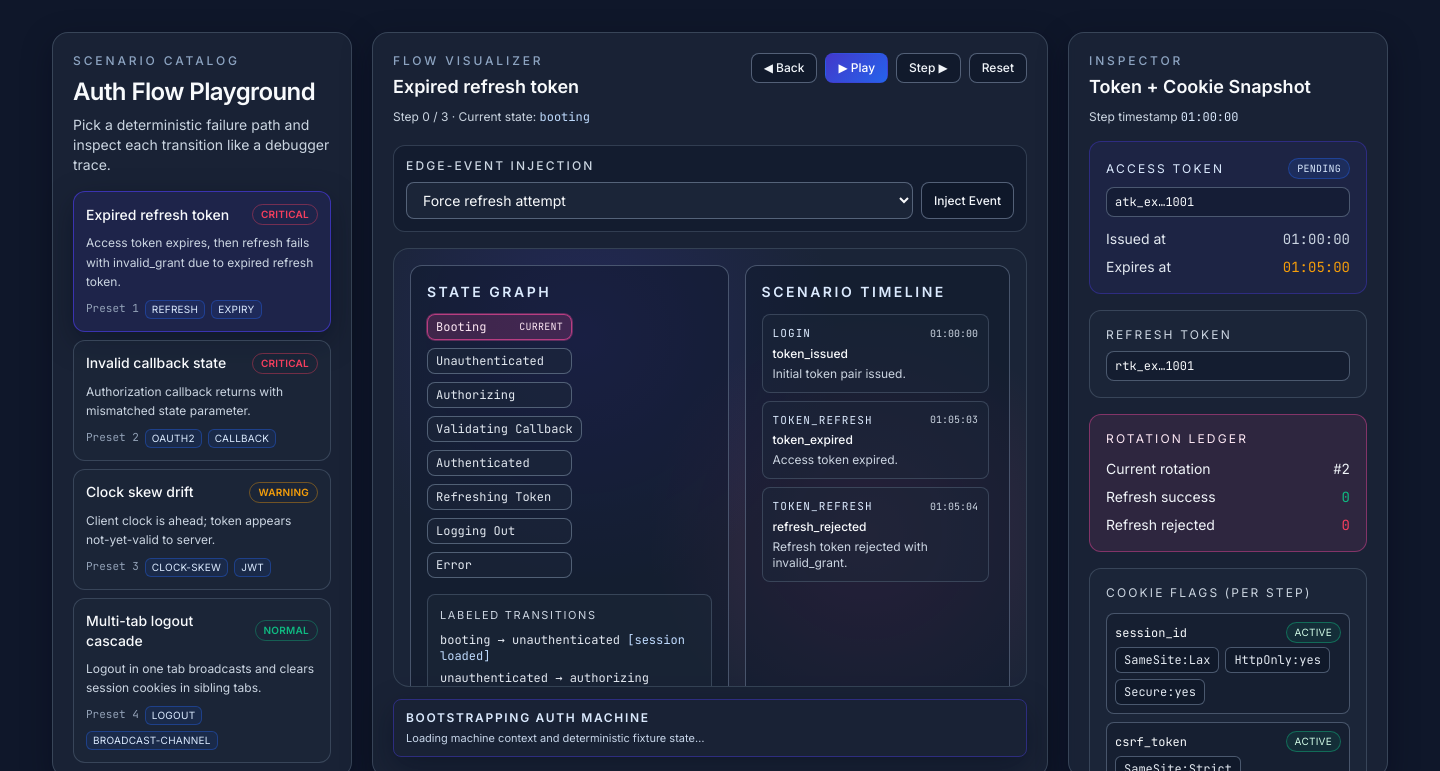
Scenario: flow visualizer controls › injects edge event from dropdown and reflects latest injected event
Select "Inject server revoke" in the dropdown labelled "Edge-event injection": (660, 200) [406,182,913,219]
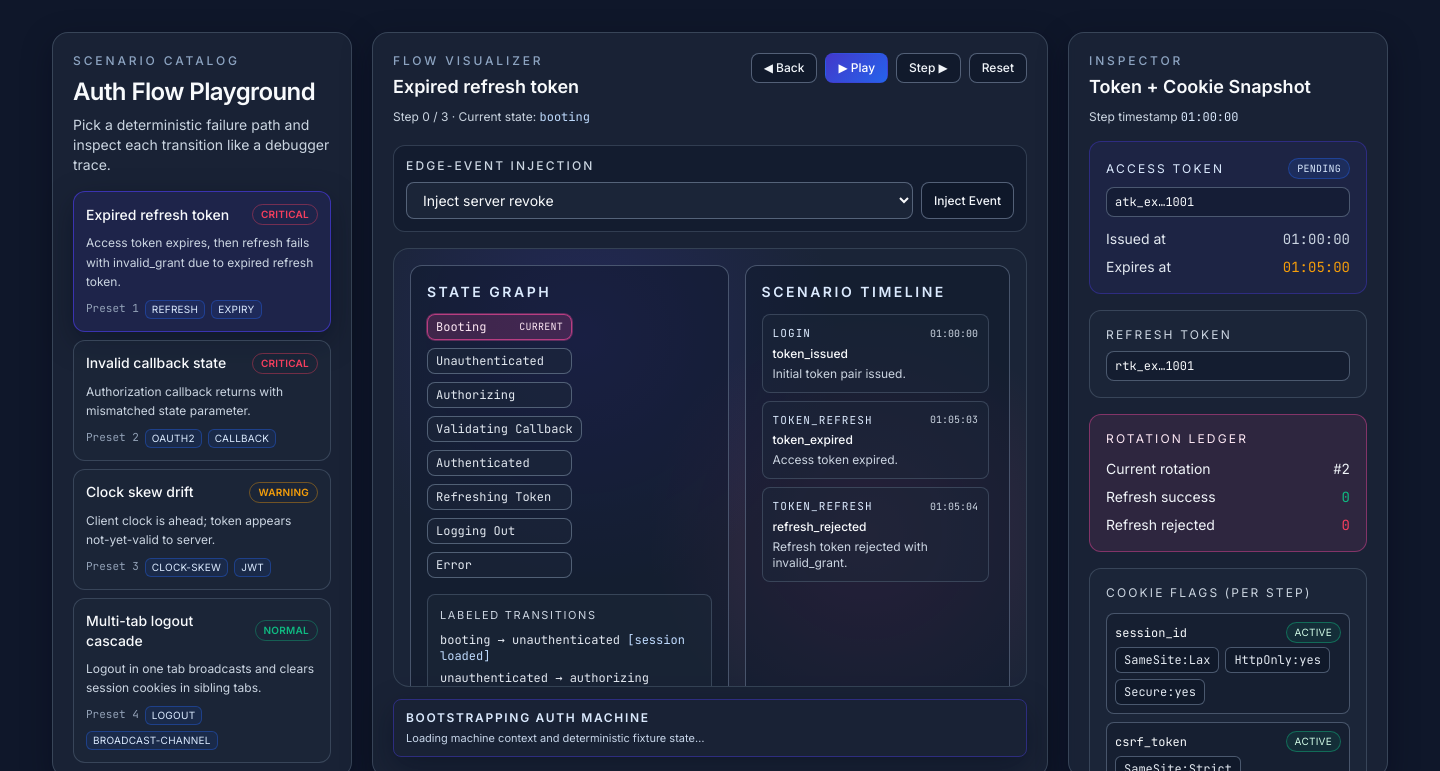
Click the button "Inject Event": (968, 200) [921,182,1014,219]
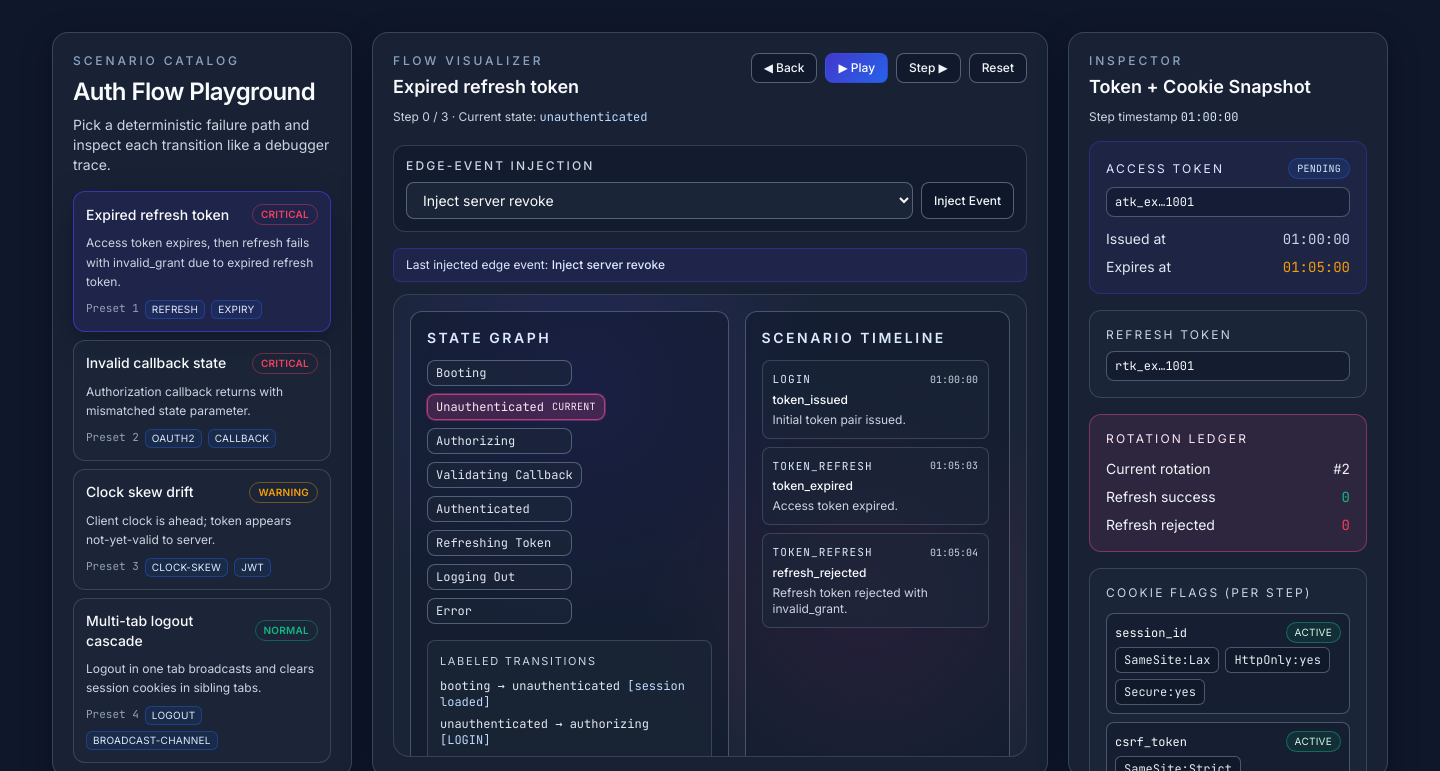
Check: the text "Last injected edge event: Inject server revoke" is shown, box [393,248,1027,282]
